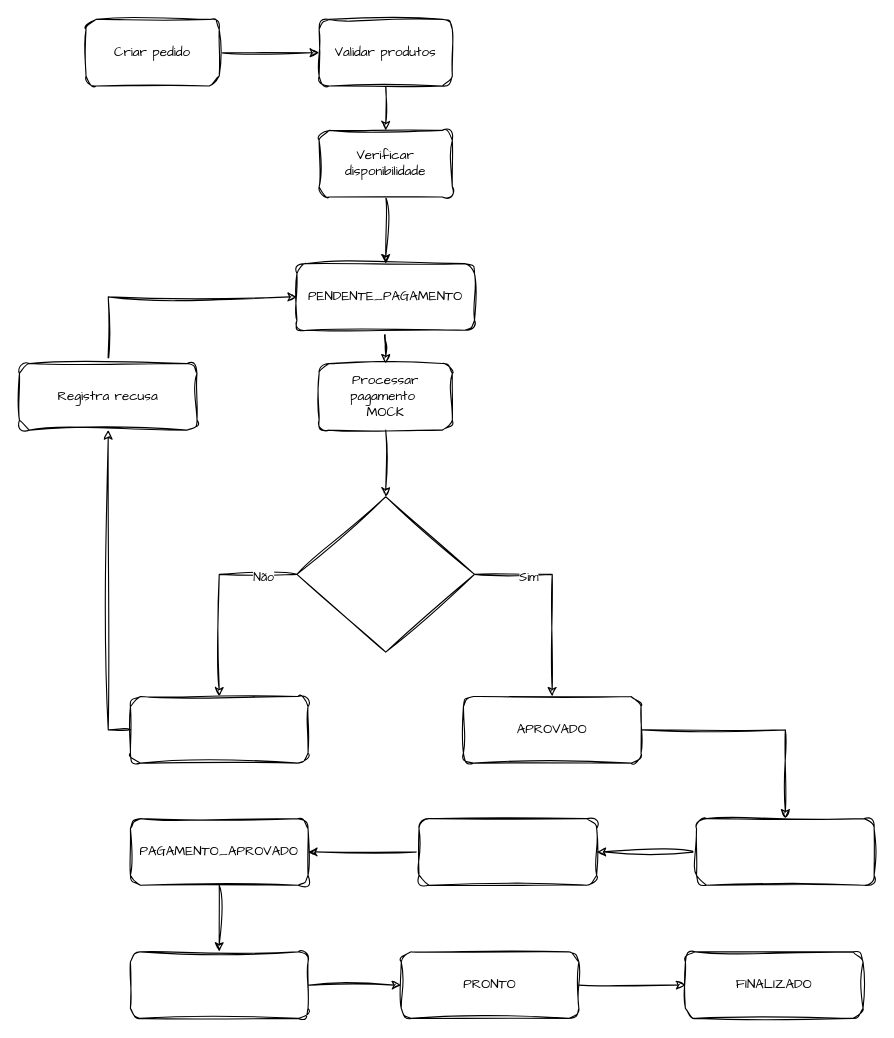
Image size: 894x1038. Some labels were removed from this diagram. The centre of each missing label's shape, as x and y in pixels:
"Baixa estoque" belongs at point (507, 851).
"EM_PREPARACAO" belongs at point (218, 984).
"Pagamento aprovado?" belongs at point (385, 574).
"RECUSADO" belongs at point (218, 729).
"Registra aprovação" belongs at point (784, 851).
